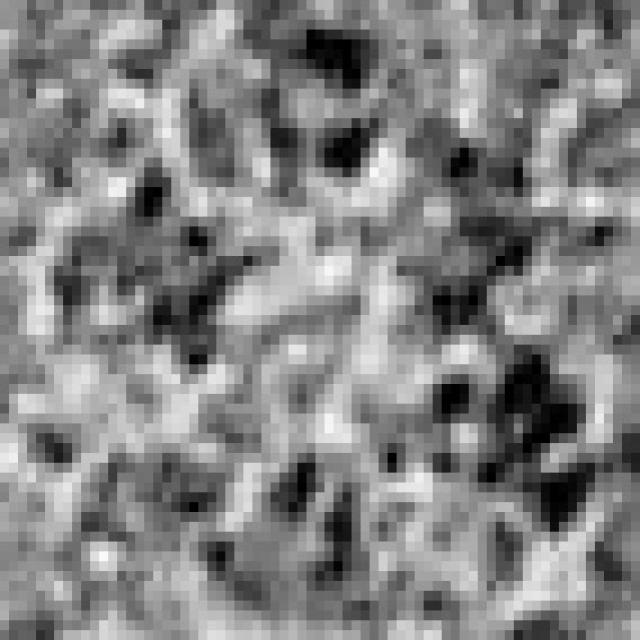inner: (197, 277, 395, 462)
lobe: (50, 164, 288, 386), (344, 115, 542, 347), (373, 344, 598, 548), (178, 12, 395, 212), (200, 444, 392, 624), (60, 435, 245, 600)
outer: (0, 0, 632, 640)
